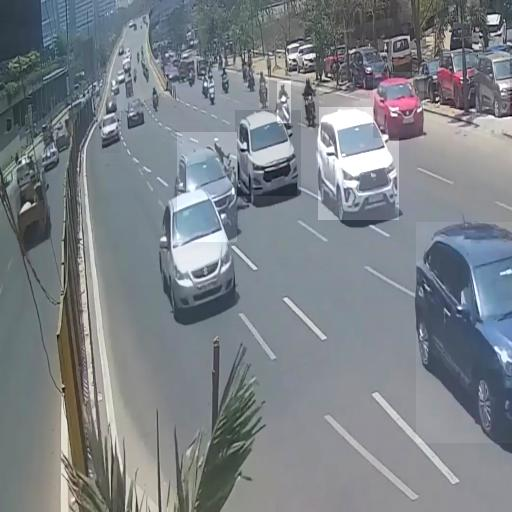小汽车: (416, 222, 512, 443), (318, 107, 399, 220), (160, 196, 234, 315), (235, 110, 301, 196), (373, 72, 424, 138), (472, 52, 510, 119), (17, 166, 48, 244), (438, 54, 476, 108), (99, 111, 121, 153)
小汽车撞自行车: (177, 132, 237, 242)
自行车: (302, 78, 319, 128), (277, 81, 291, 123), (259, 70, 269, 108)
